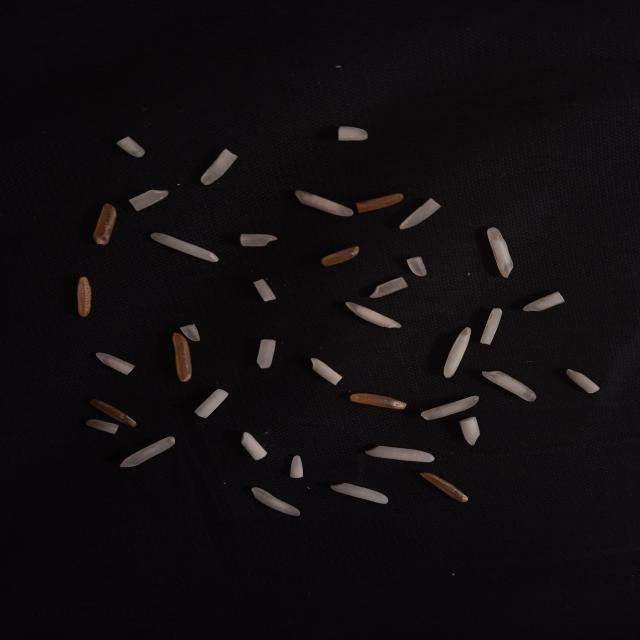Broken: (420, 472, 469, 503), (421, 396, 481, 420), (89, 398, 137, 427), (252, 487, 300, 516), (399, 198, 442, 230), (194, 388, 229, 417), (92, 204, 116, 245), (355, 193, 404, 213), (522, 291, 566, 313), (96, 352, 136, 376), (173, 332, 192, 382), (349, 392, 406, 408), (129, 190, 169, 212), (370, 277, 409, 299), (566, 369, 600, 393), (480, 308, 502, 345), (321, 246, 359, 266), (241, 432, 268, 460), (256, 339, 278, 369), (459, 416, 480, 446), (117, 137, 146, 158), (77, 277, 91, 317), (255, 279, 278, 301), (86, 419, 119, 434), (240, 234, 278, 246), (406, 256, 428, 276), (339, 127, 368, 141), (180, 324, 200, 342), (290, 455, 304, 478)
Full: (150, 232, 220, 262), (120, 437, 175, 468), (481, 371, 536, 402), (345, 300, 402, 328), (295, 190, 353, 217), (444, 326, 472, 378), (487, 227, 513, 279), (201, 148, 237, 185), (330, 483, 389, 504), (365, 446, 435, 462), (309, 358, 342, 384)
